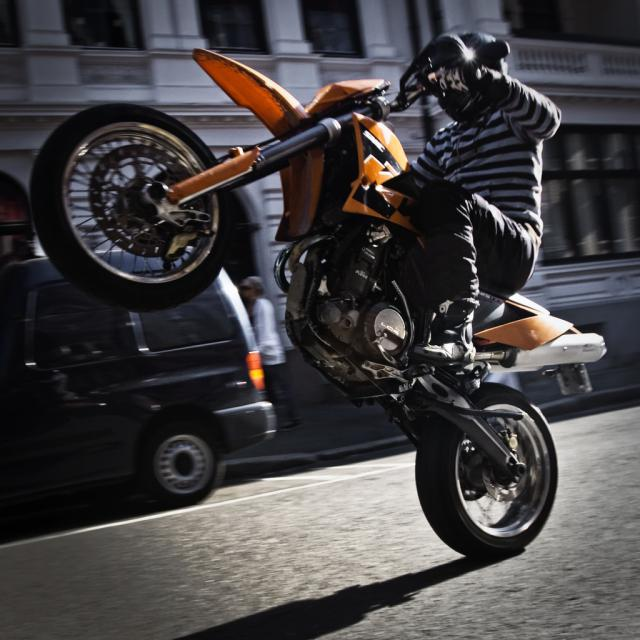car: (0, 239, 280, 506)
